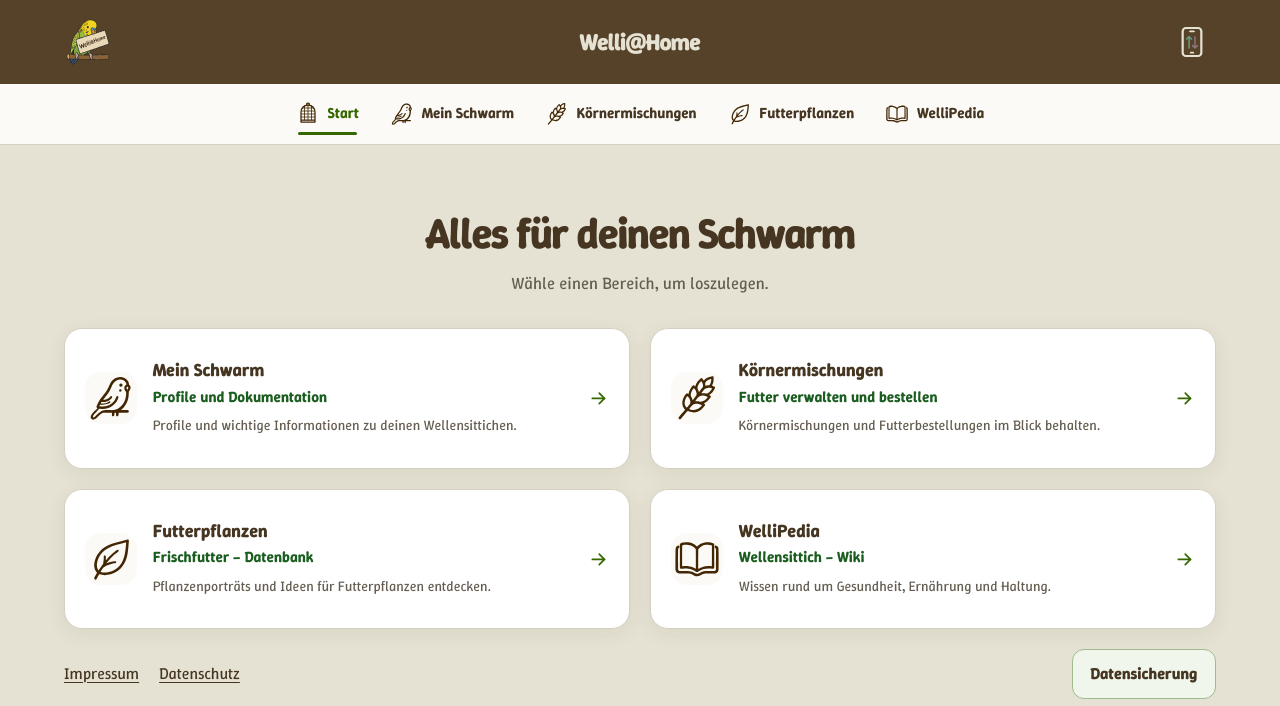
Test: BackupPage › ist von der Startseite aus erreichbar
This screenshot has width=1280, height=706.
Click the link "Datensicherung" at (1144, 674), box [1072,649,1216,699]
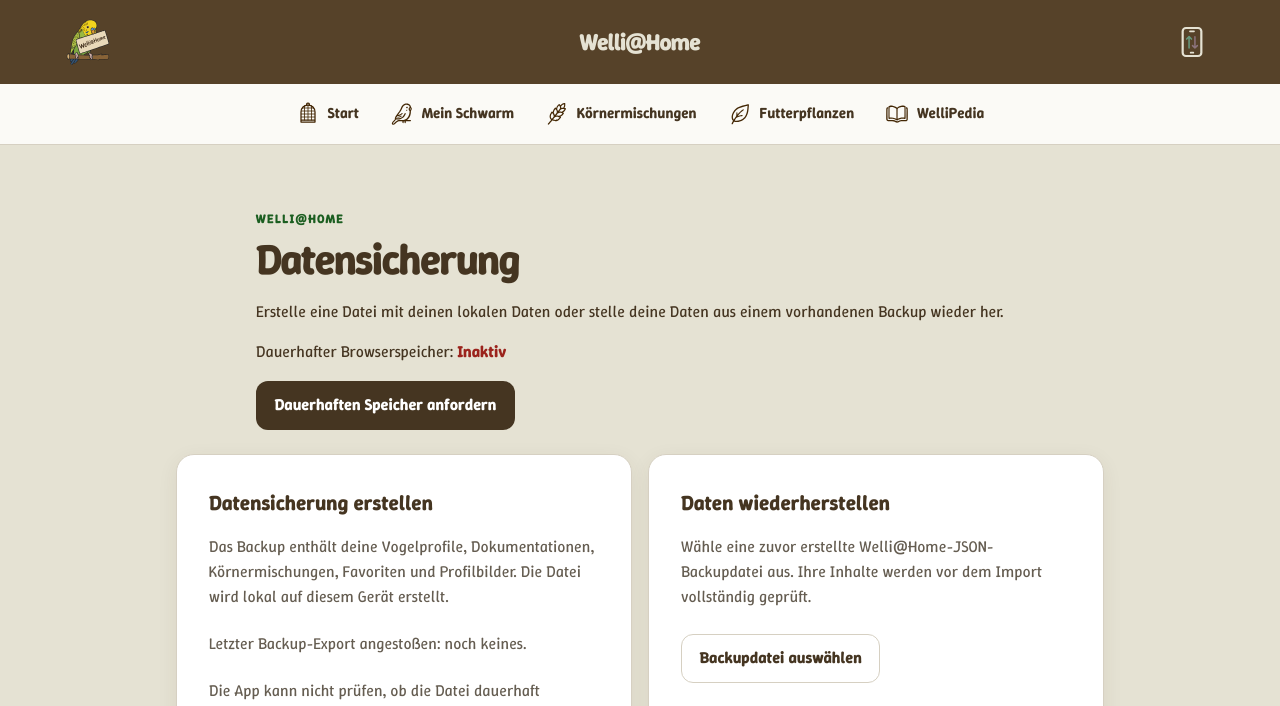
Now the heading "Datensicherung" is shown, box [256,231,519,287]
